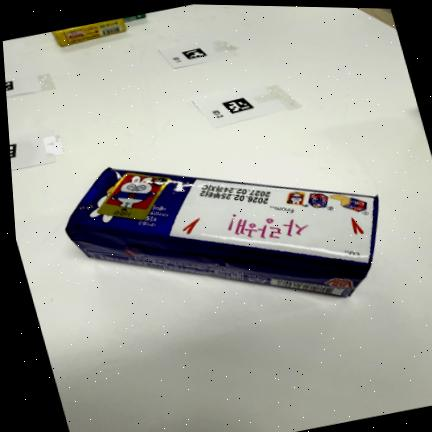cracker_ace: (66, 168, 378, 297)
